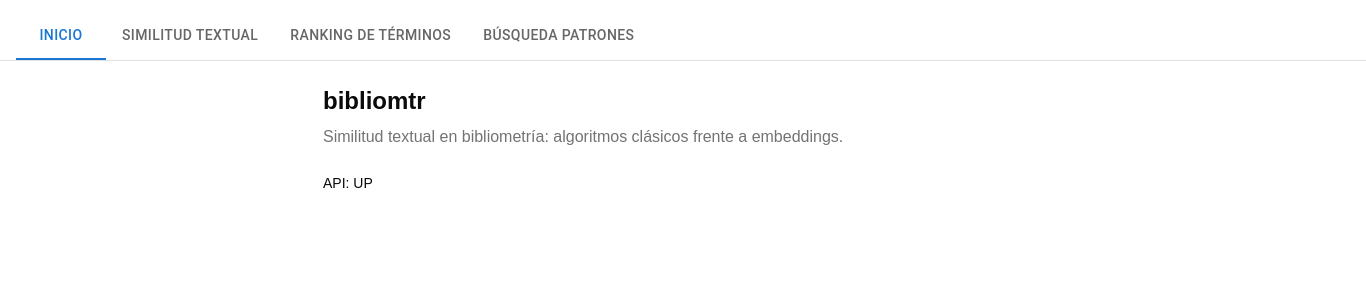
App (spec 004, REQ-19) › tiene la pestaña "Búsqueda Patrones" y al abrirla carga su página con el formulario
The width and height of the screenshot is (1366, 300).
Click the tab "Búsqueda Patrones": (559, 36) [467,12,650,60]
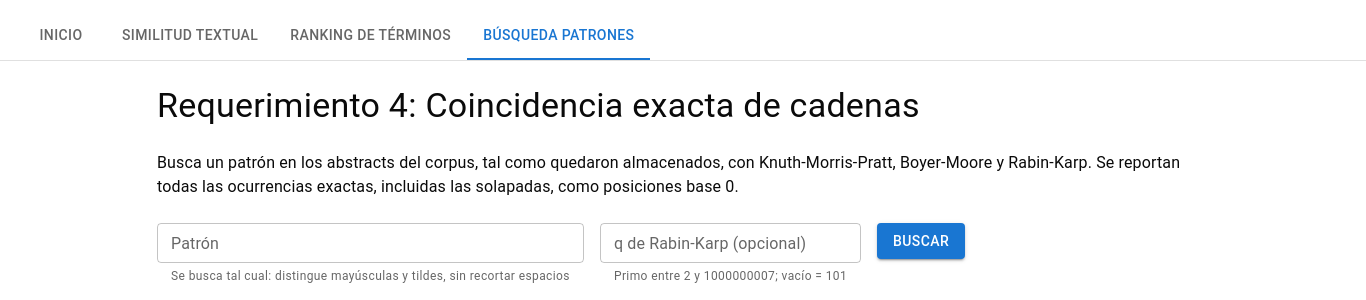
Expected: the heading "Requerimiento 4: Coincidencia exacta de cadenas" is shown, [157,85,920,125]
Expected: the field labelled "Patrón" is shown, [157,223,584,263]
Expected: the field labelled "q de Rabin-Karp (opcional)" is shown, [600,223,861,263]
